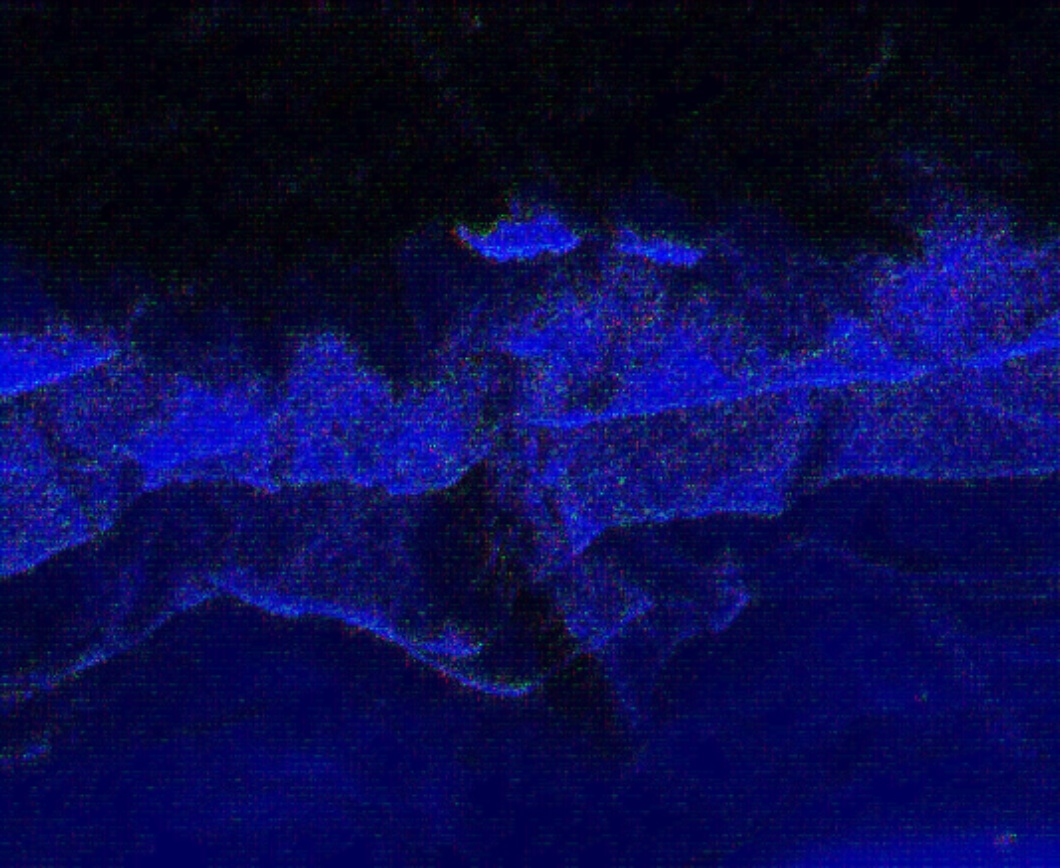rip_current: (355, 304, 612, 641)
